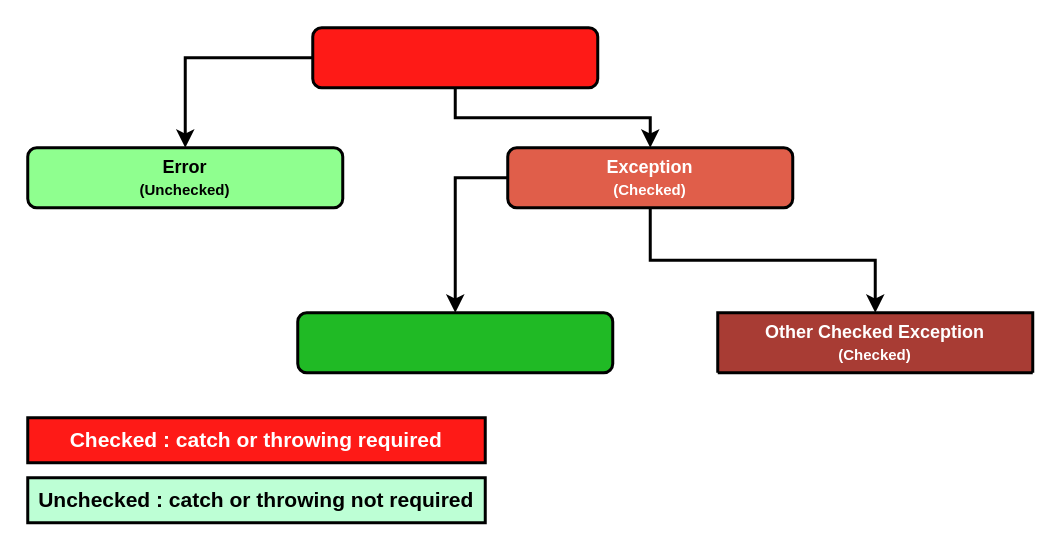
This 1059x549 diagram has some shape labels left out. The shapes that lost their labels are listed below. From the top down, each one's centre as x and y in pixels, then its label:
At (x=454, y=57): "Throwable (Checked)".
At (x=455, y=342): "RuntimeException (Unchecked)".
